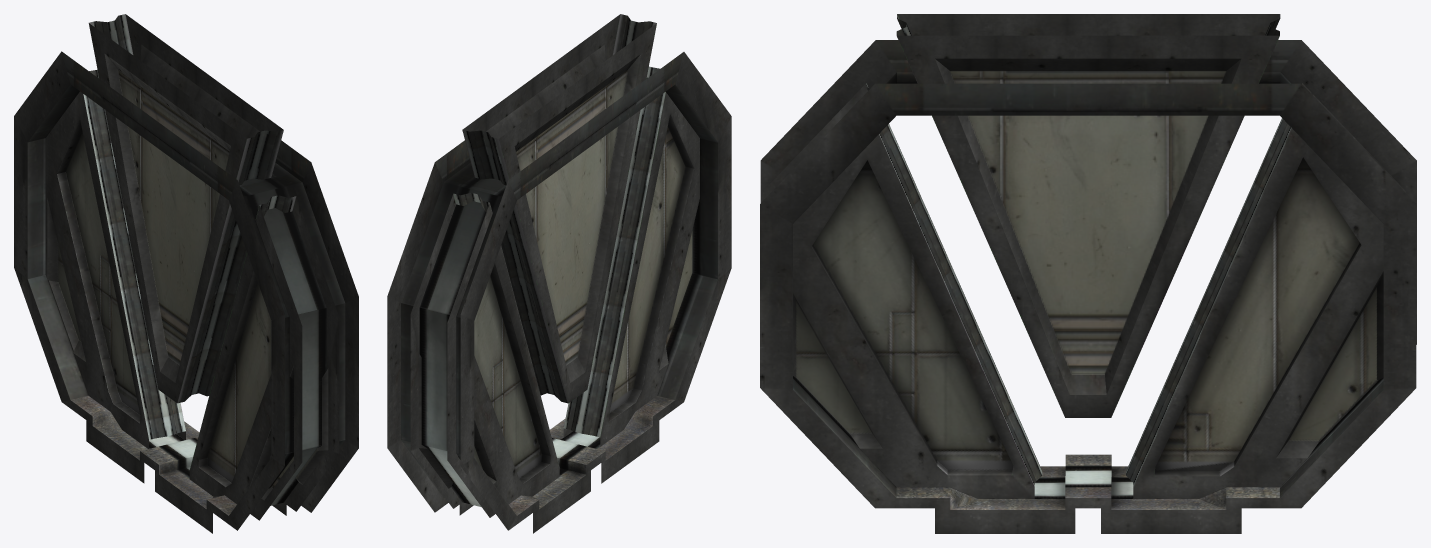
Rendered from Sci-fiDoor.fbx.
The picture shows the model from 3 angles, left to right: view 1: azimuth 30°, elevation 25°; view 2: azimuth 150°, elevation 25°; view 3: azimuth 270°, elevation 25°; orthographic projection. The views are drawn at different scales.
Parts seen in each view (by area): view 1: Cube_012_001, Cube_013_001, Cube_015_001, Cube_014_001; view 2: Cube_012_001, Cube_013_001, Cube_014_001, Cube_015_001; view 3: Cube_013_001, Cube_012_001, Cube_015_001, Cube_014_001.
Part boxes in pixels (x1=…): Cube_012_001: x1=14, y1=51, x2=358, y2=533; Cube_013_001: x1=88, y1=14, x2=283, y2=403; Cube_015_001: x1=45, y1=69, x2=185, y2=448; Cube_014_001: x1=189, y1=195, x2=339, y2=520; Cube_012_001: x1=387, y1=52, x2=731, y2=533; Cube_013_001: x1=462, y1=14, x2=656, y2=403; Cube_014_001: x1=563, y1=66, x2=699, y2=446; Cube_015_001: x1=410, y1=192, x2=559, y2=517; Cube_013_001: x1=896, y1=14, x2=1280, y2=417; Cube_012_001: x1=760, y1=40, x2=1416, y2=533; Cube_015_001: x1=1126, y1=83, x2=1405, y2=498; Cube_014_001: x1=763, y1=83, x2=1042, y2=498.
Size of the model in its own units: 0.4836 by 2.52 by 3.08.
